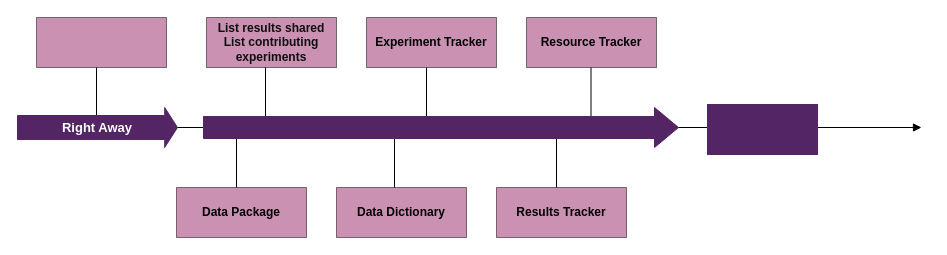
Some shapes in this 947 by 255 pixel diagram are drawn without their labels. Each missing label, with the centre of its shape:
"After Manuscript Finalized" belongs at (x=440, y=127).
"Finish Preparing Data Package Locally" belongs at (x=762, y=129).
"NEXT: Prepare for submission" belongs at (x=871, y=107).
"Set Yourself Up For Success" belongs at (x=101, y=42).
